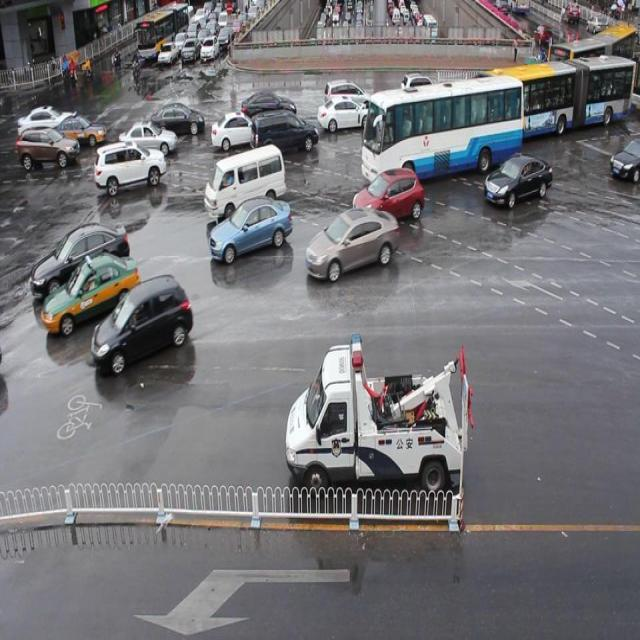BigCar: (358, 79, 521, 178), (483, 54, 634, 137), (136, 3, 190, 67)
car: (287, 338, 492, 526), (87, 271, 195, 378), (29, 248, 146, 341), (294, 199, 398, 288), (24, 220, 129, 307), (204, 188, 294, 272), (204, 142, 293, 216), (351, 156, 426, 236), (484, 141, 550, 219), (89, 139, 164, 194), (19, 117, 80, 177), (251, 103, 318, 154), (310, 86, 362, 147), (156, 38, 176, 82), (177, 33, 198, 71), (197, 29, 218, 60)
